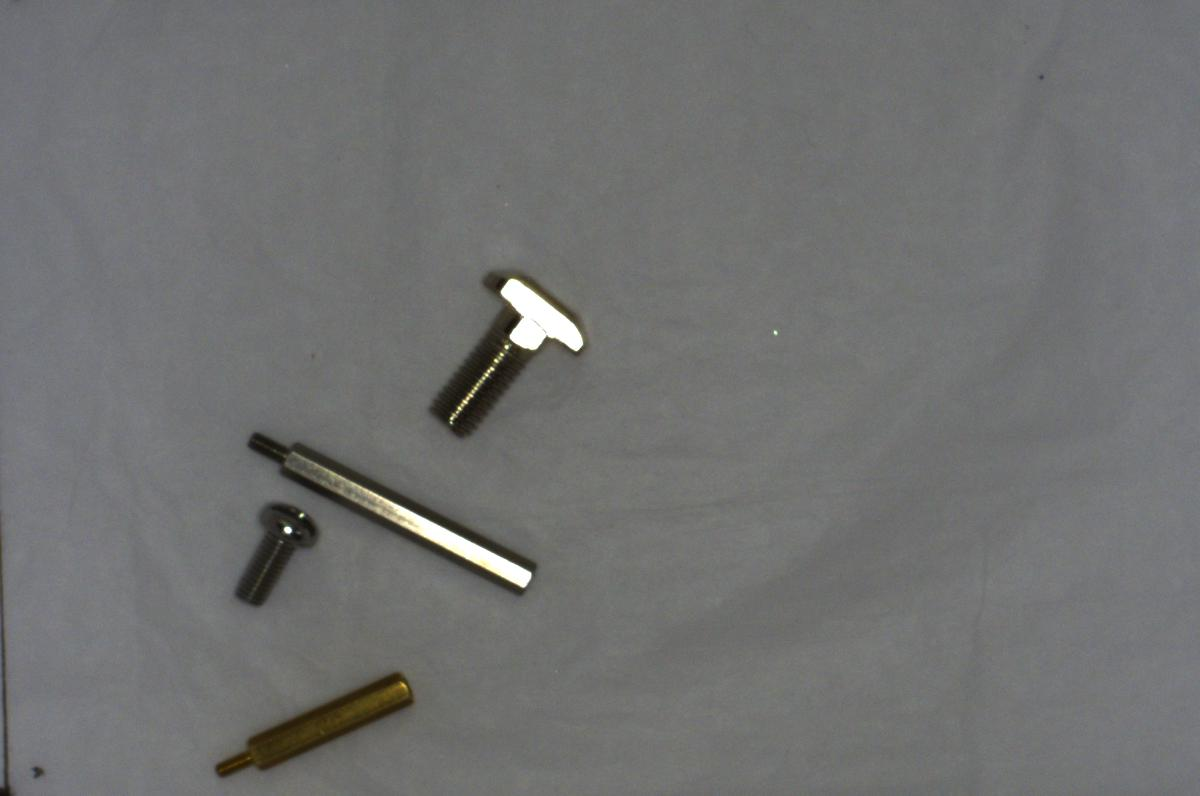Hexagon pillar: (208, 667, 419, 782)
Hexagonal steel column: (240, 427, 542, 595)
Round head screw: (222, 494, 324, 606)
T-shaped screw: (413, 265, 597, 436)
